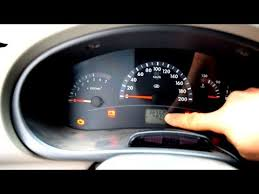Digital_Meter: (146, 110, 176, 124)
